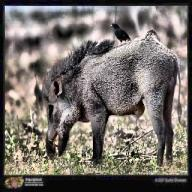boar: (40, 29, 182, 166)
